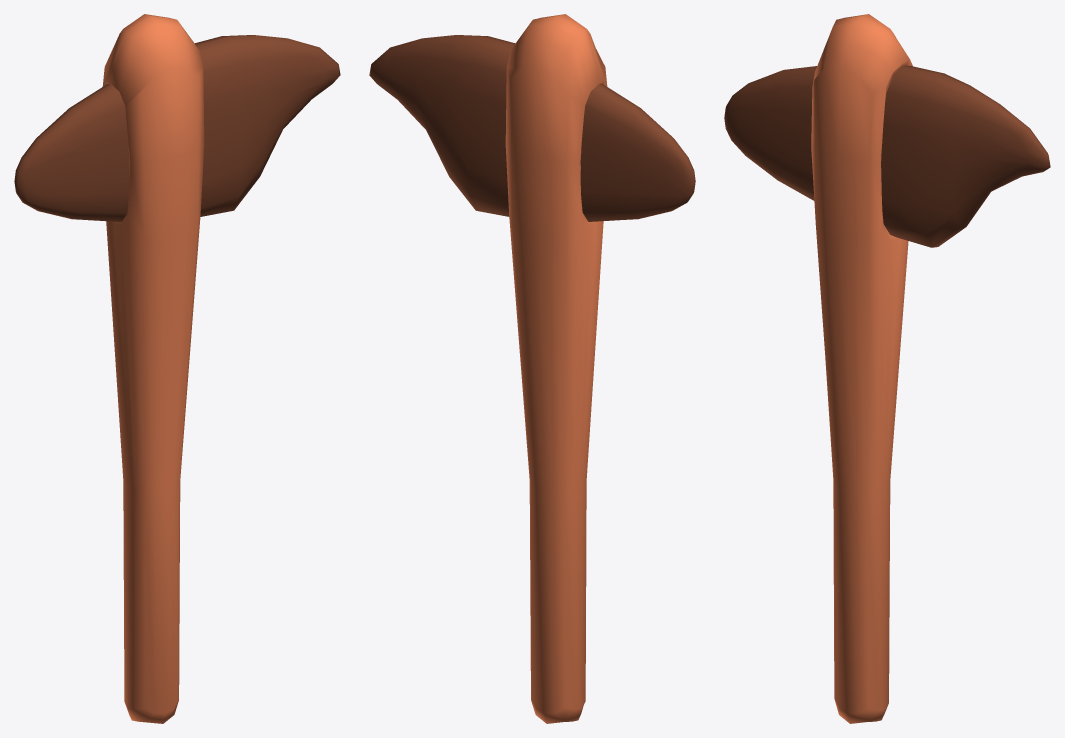
File: Stone_Pickaxe.fbx
The picture shows the model from 3 angles, left to right: view 1: azimuth 30°, elevation 25°; view 2: azimuth 150°, elevation 25°; view 3: azimuth 330°, elevation 25°; orthographic projection.
Parts seen in each view (by area): view 1: Stone_Pickaxe; view 2: Stone_Pickaxe; view 3: Stone_Pickaxe.
Part boxes in pixels (<box>): Stone_Pickaxe: <box>14,14,340,723</box>; Stone_Pickaxe: <box>369,14,695,723</box>; Stone_Pickaxe: <box>724,14,1050,723</box>.
Size of the model in its own units: 0.2315 by 0.4774 by 0.0579.
